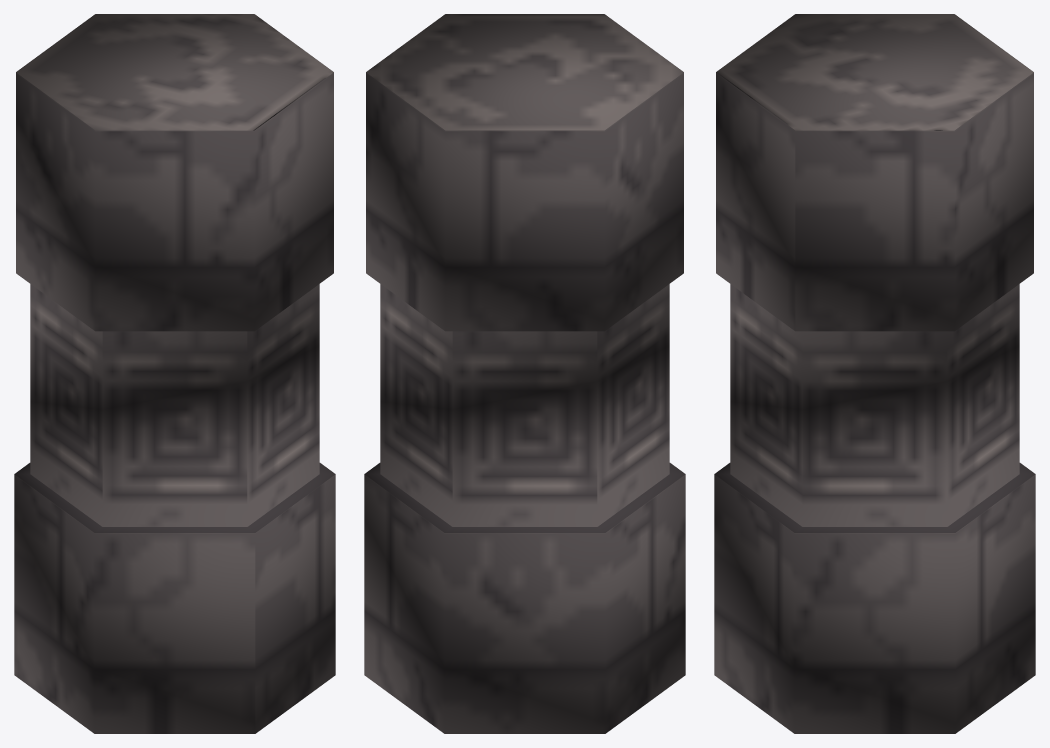
The model's file is pillar2.fbx.
3 renders of one model, left to right at view 1: azimuth 30°, elevation 25°; view 2: azimuth 150°, elevation 25°; view 3: azimuth 270°, elevation 25°, orthographic.
Parts seen in each view (by area): view 1: Cylindre; view 2: Cylindre; view 3: Cylindre.
Part boxes in pixels (x1,y1,x2,y2): Cylindre: [14, 14, 335, 733]; Cylindre: [364, 14, 685, 733]; Cylindre: [714, 14, 1035, 733].
Bounding box in the file's own units: 173 × 414 × 200.
